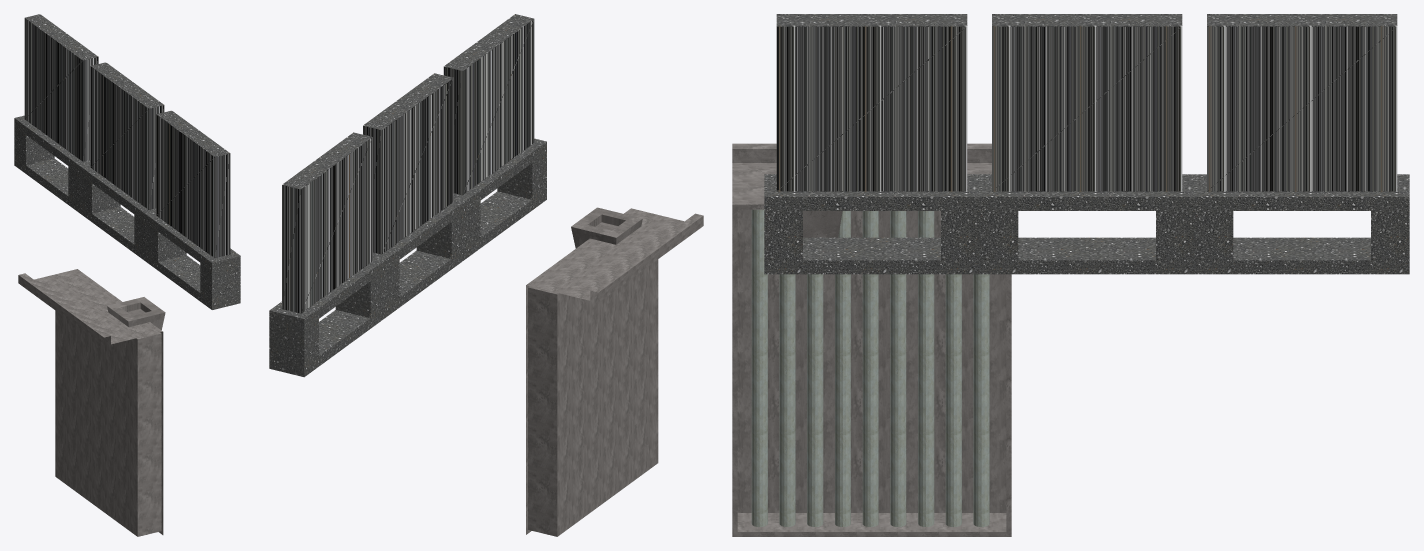
The model's file is blocks.glb.
3 views of the same model, side by side, from view 1: azimuth 30°, elevation 25°; view 2: azimuth 150°, elevation 25°; view 3: azimuth 270°, elevation 25° (orthographic). The views are drawn at different scales.
Parts seen in each view (by area): view 1: Cube.001, Plane.004, Plane.003; view 2: Cube.001, Plane.004, Plane.003; view 3: Cube.001, Plane.004, Cylinder, Plane.003.
Part boxes in pixels (left/top/right/bottom): Cube.001: left=14, top=14, right=240, bottom=309; Plane.004: left=18, top=269, right=163, bottom=536; Plane.003: left=107, top=297, right=165, bottom=329; Cube.001: left=269, top=14, right=546, bottom=377; Plane.004: left=526, top=208, right=703, bottom=536; Plane.003: left=571, top=207, right=642, bottom=248; Cube.001: left=764, top=14, right=1409, bottom=274; Plane.004: left=732, top=143, right=1011, bottom=536; Cylinder: left=751, top=209, right=989, bottom=526; Plane.003: left=803, top=211, right=842, bottom=237.
Size of the model in its own units: 6.46 by 14.92 by 15.88.
Materials: 3 (3 with a texture image).
